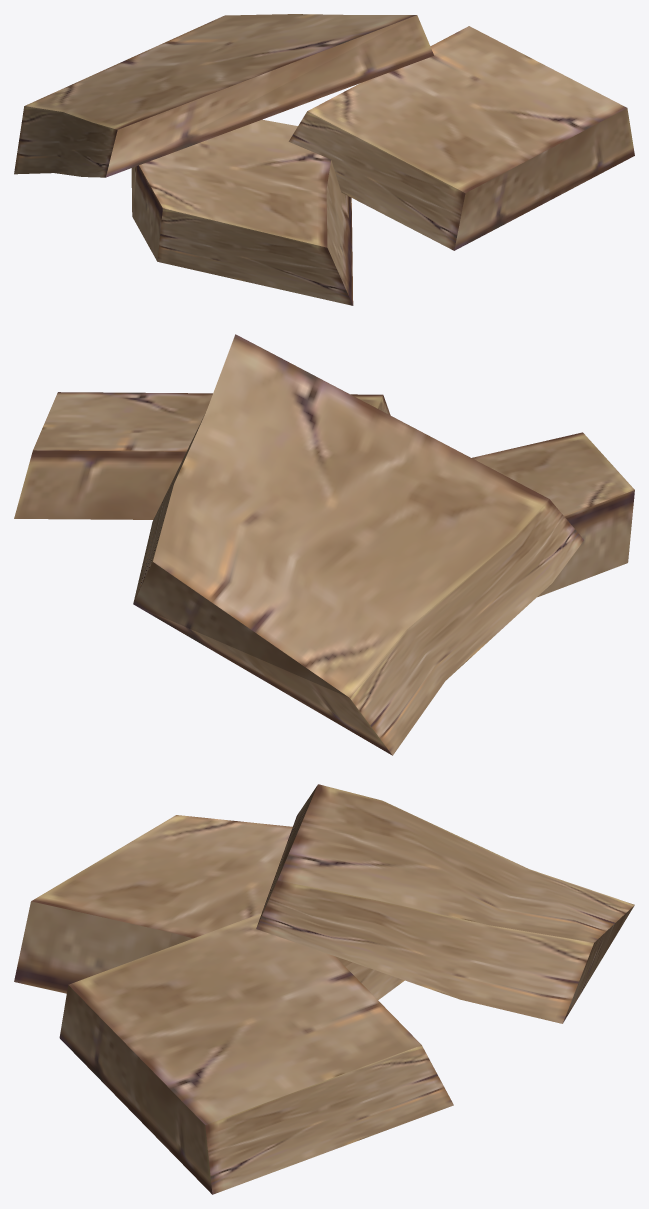
File: Arena1_pillar_broken02.FBX
The picture shows the model from 3 angles, top to bottom: view 1: azimuth 30°, elevation 25°; view 2: azimuth 150°, elevation 25°; view 3: azimuth 270°, elevation 25°; orthographic projection. The views are drawn at different scales.
Visible parts, largest first — view 1: Arena1_pillar_broken02; view 2: Arena1_pillar_broken02; view 3: Arena1_pillar_broken02.
Part boxes in pixels (bbox=[...]): Arena1_pillar_broken02: bbox=[14, 14, 634, 305]; Arena1_pillar_broken02: bbox=[14, 334, 634, 755]; Arena1_pillar_broken02: bbox=[14, 784, 634, 1194].
Size of the model in its own units: 232 by 86.26 by 209.
